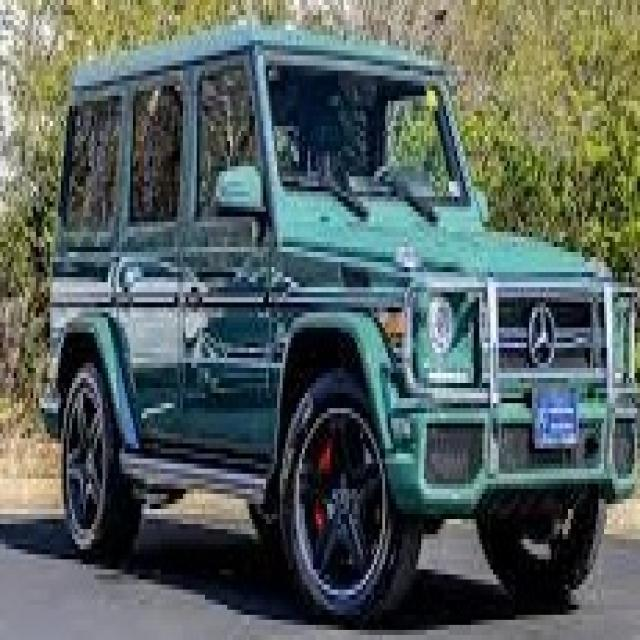green: (44, 20, 640, 620)
